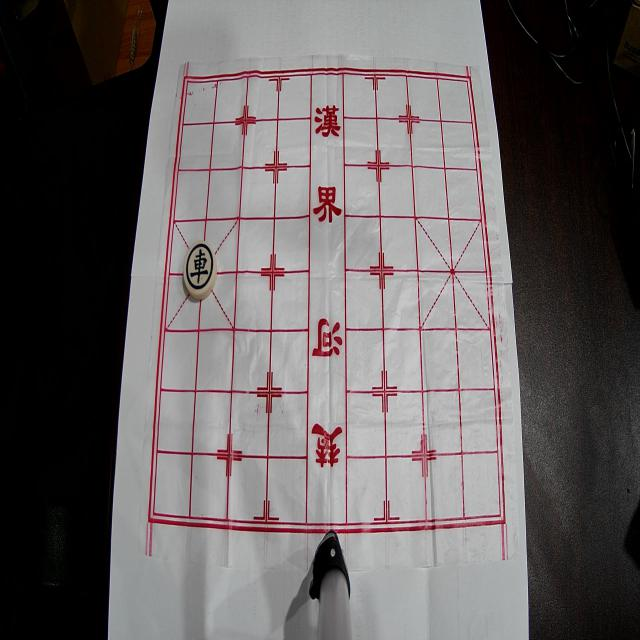black-chariot: (184, 240, 218, 300)
